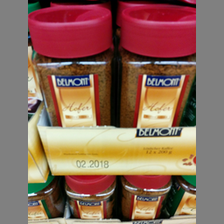coffee: (28, 6, 117, 126), (114, 5, 195, 128)
